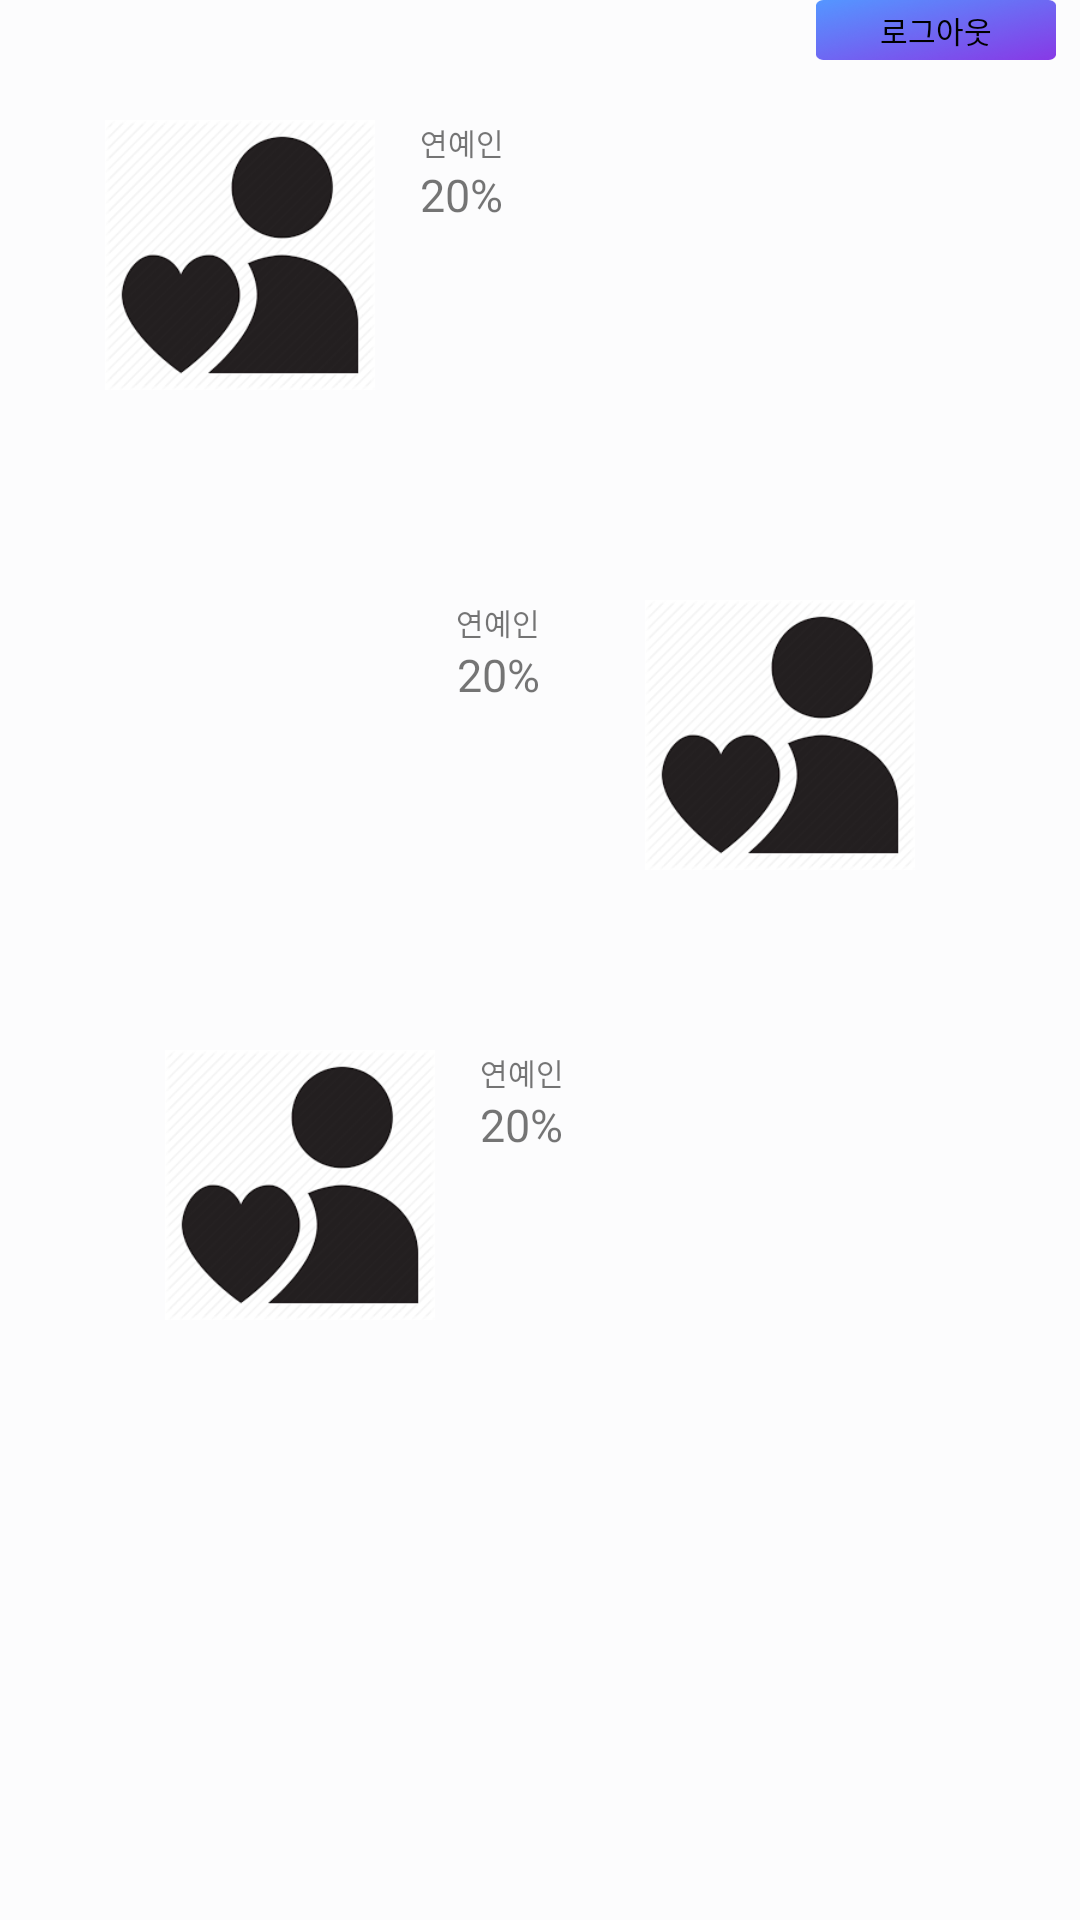

Where icons sit on this 1080w x 1920h app screen, as (x1, y1, x2, y2):
loveperson: (121, 136, 359, 374), (661, 616, 899, 854), (181, 1066, 419, 1304)
